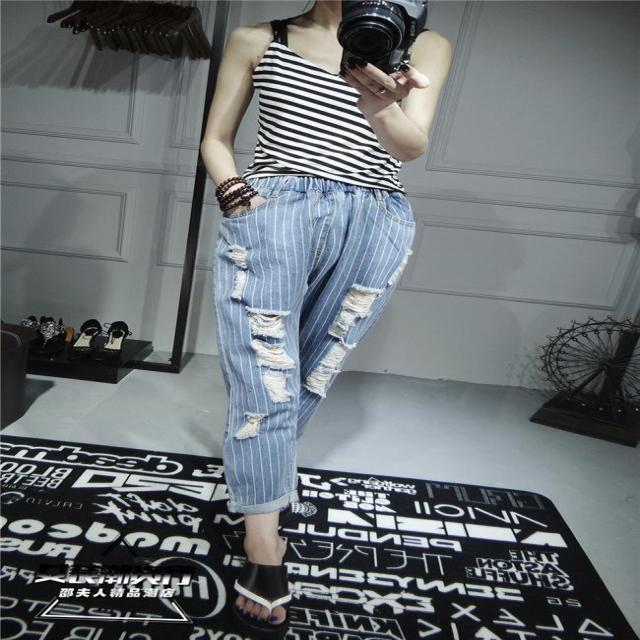sling: (243, 20, 429, 195)
trousers: (214, 176, 416, 515)
